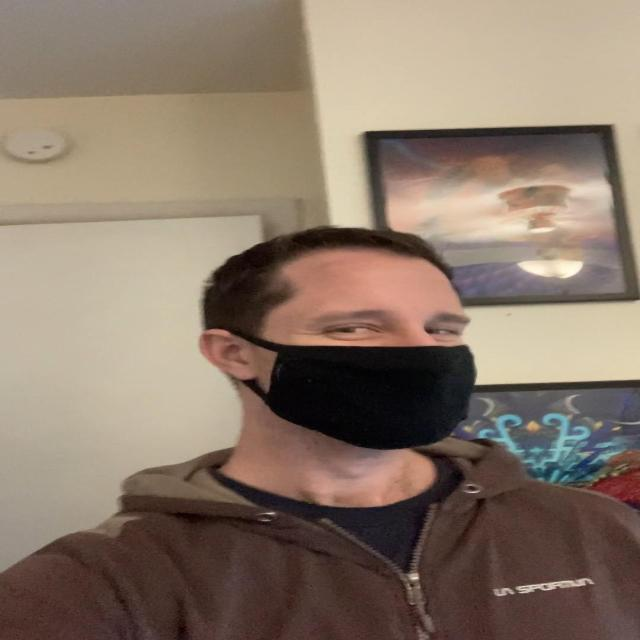no-helmet: (204, 239, 488, 463)
